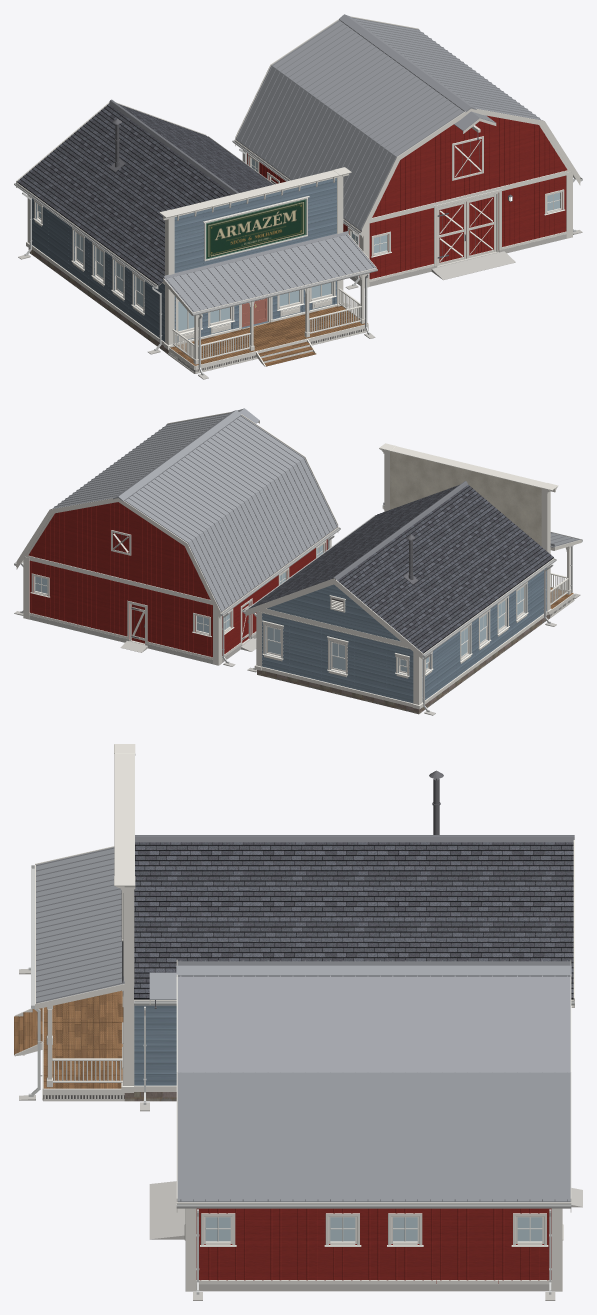
Rendered from building_assembled.glb.
The picture shows the model from 3 angles, top to bottom: view 1: azimuth 30°, elevation 25°; view 2: azimuth 150°, elevation 25°; view 3: azimuth 270°, elevation 25°; orthographic projection. The views are drawn at different scales.
Visible parts, largest first — view 1: building_metal, building_trim, building_shingles, building_barn, building_siding, building_deck, building_sign, building_gutter, building_glass, building_concrete, building_frame, building_ridge (+3 smaller); view 2: building_metal, building_shingles, building_barn, building_trim, building_siding, building_plaster, building_gutter, building_glass, building_stone, building_concrete, building_frame, building_ridge (+1 smaller); view 3: building_metal, building_shingles, building_barn, building_trim, building_deck, building_concrete, building_gutter, building_ridge, building_siding, building_glass, building_frame.
Boxes of the visible parts, bbox=[...] form: building_metal: bbox=[164, 14, 543, 312]; building_trim: bbox=[16, 16, 580, 373]; building_shingles: bbox=[17, 104, 272, 285]; building_barn: bbox=[247, 115, 567, 279]; building_siding: bbox=[32, 178, 336, 342]; building_deck: bbox=[170, 306, 367, 366]; building_sign: bbox=[207, 200, 305, 258]; building_gutter: bbox=[14, 136, 582, 375]; building_glass: bbox=[38, 158, 559, 331]; building_concrete: bbox=[18, 230, 582, 379]; building_frame: bbox=[36, 157, 561, 331]; building_ridge: bbox=[109, 99, 238, 194]; building_metal: bbox=[51, 408, 579, 612]; building_shingles: bbox=[249, 484, 553, 653]; building_barn: bbox=[28, 502, 327, 657]; building_trim: bbox=[16, 412, 581, 709]; building_siding: bbox=[262, 568, 546, 703]; building_plaster: bbox=[390, 451, 541, 546]; building_gutter: bbox=[14, 515, 582, 711]; building_glass: bbox=[35, 545, 523, 671]; building_stone: bbox=[257, 614, 549, 714]; building_concrete: bbox=[14, 593, 580, 715]; building_frame: bbox=[33, 506, 554, 672]; building_ridge: bbox=[332, 481, 467, 580]; building_metal: bbox=[36, 847, 571, 1202]; building_shingles: bbox=[134, 842, 573, 999]; building_barn: bbox=[196, 1208, 551, 1283]; building_trim: bbox=[14, 744, 574, 1291]; building_deck: bbox=[14, 990, 123, 1088]; building_concrete: bbox=[19, 968, 582, 1300]; building_gutter: bbox=[28, 865, 574, 1294]; building_ridge: bbox=[135, 835, 574, 842]; building_siding: bbox=[134, 1005, 176, 1085]; building_glass: bbox=[205, 1217, 542, 1241]; building_frame: bbox=[123, 990, 543, 1243].
Size of the model in its own units: 25.9 by 8.75 by 18.25.
Materials: 27 (10 with a texture image).
